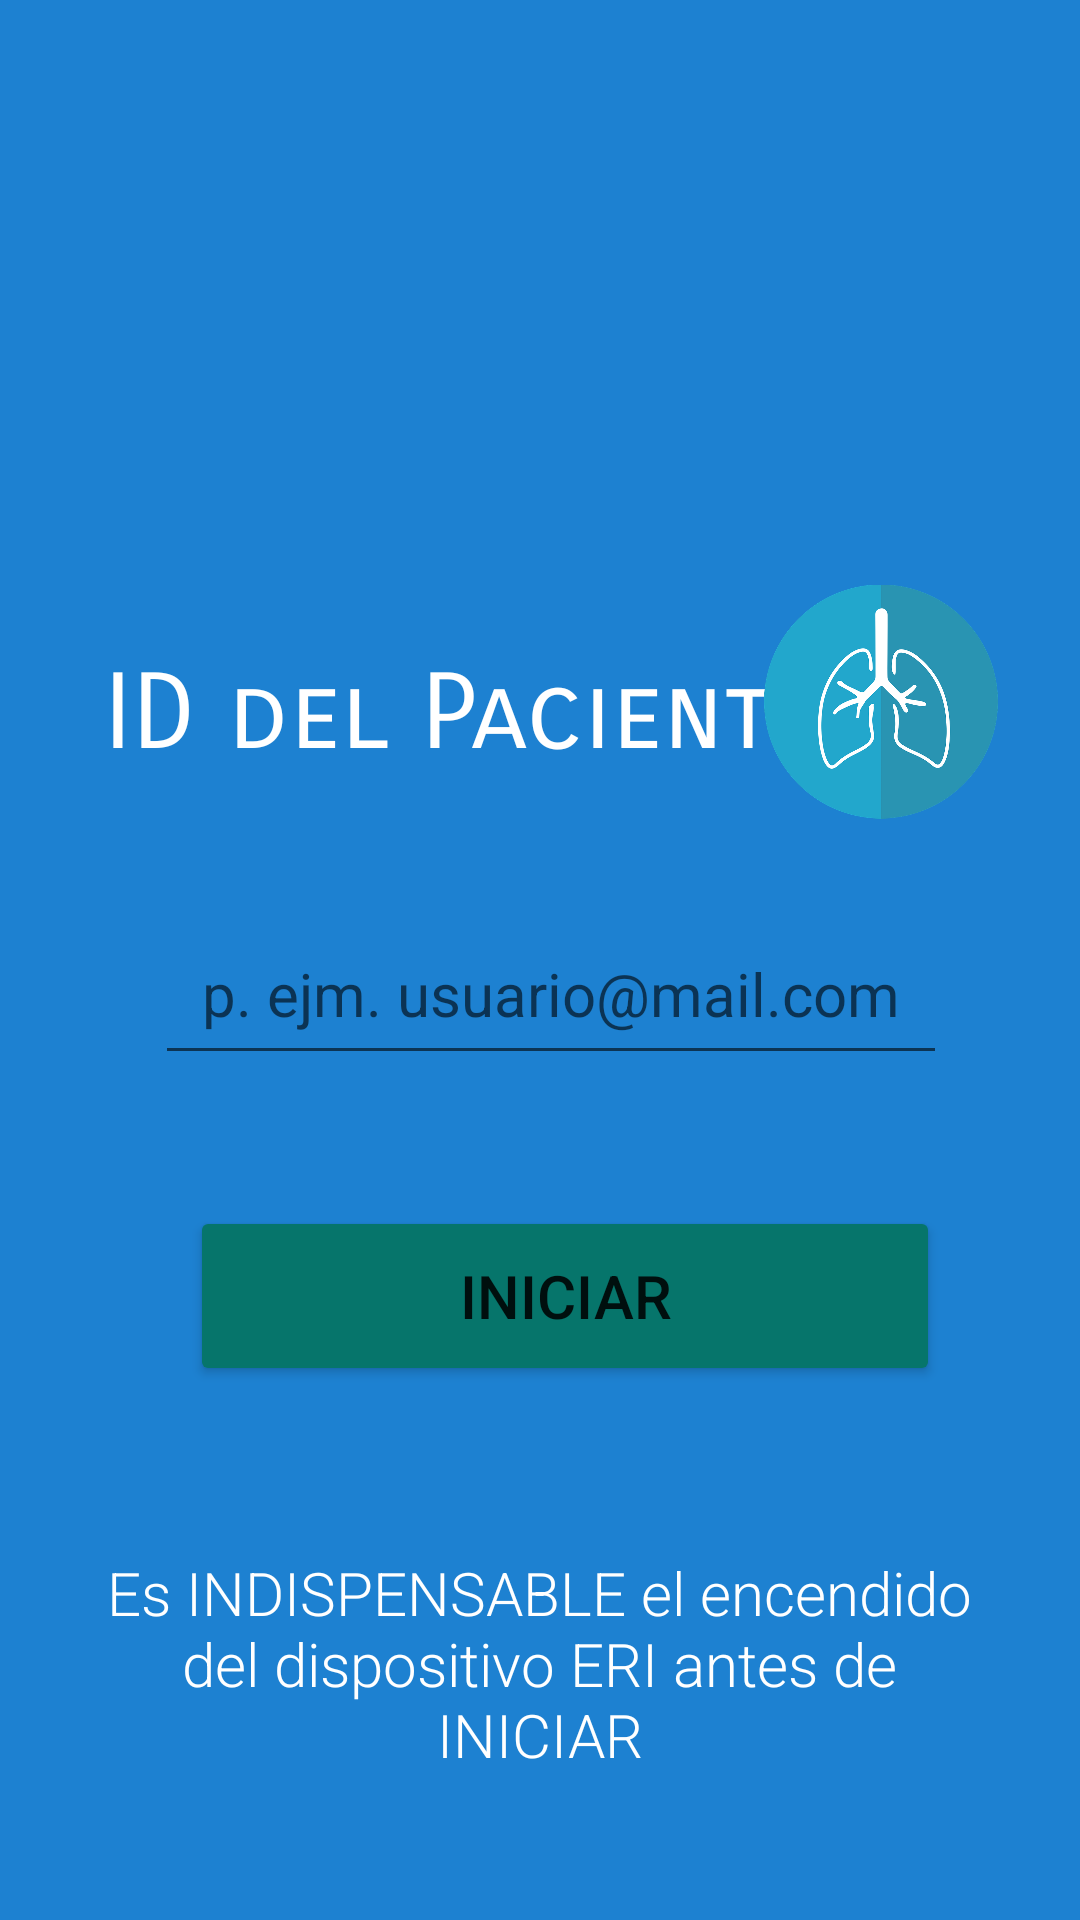

Where icons sit on this 1080w x 1920h app screen, as (x1, y1, x2, y2):
lungs: (764, 585, 998, 819)
